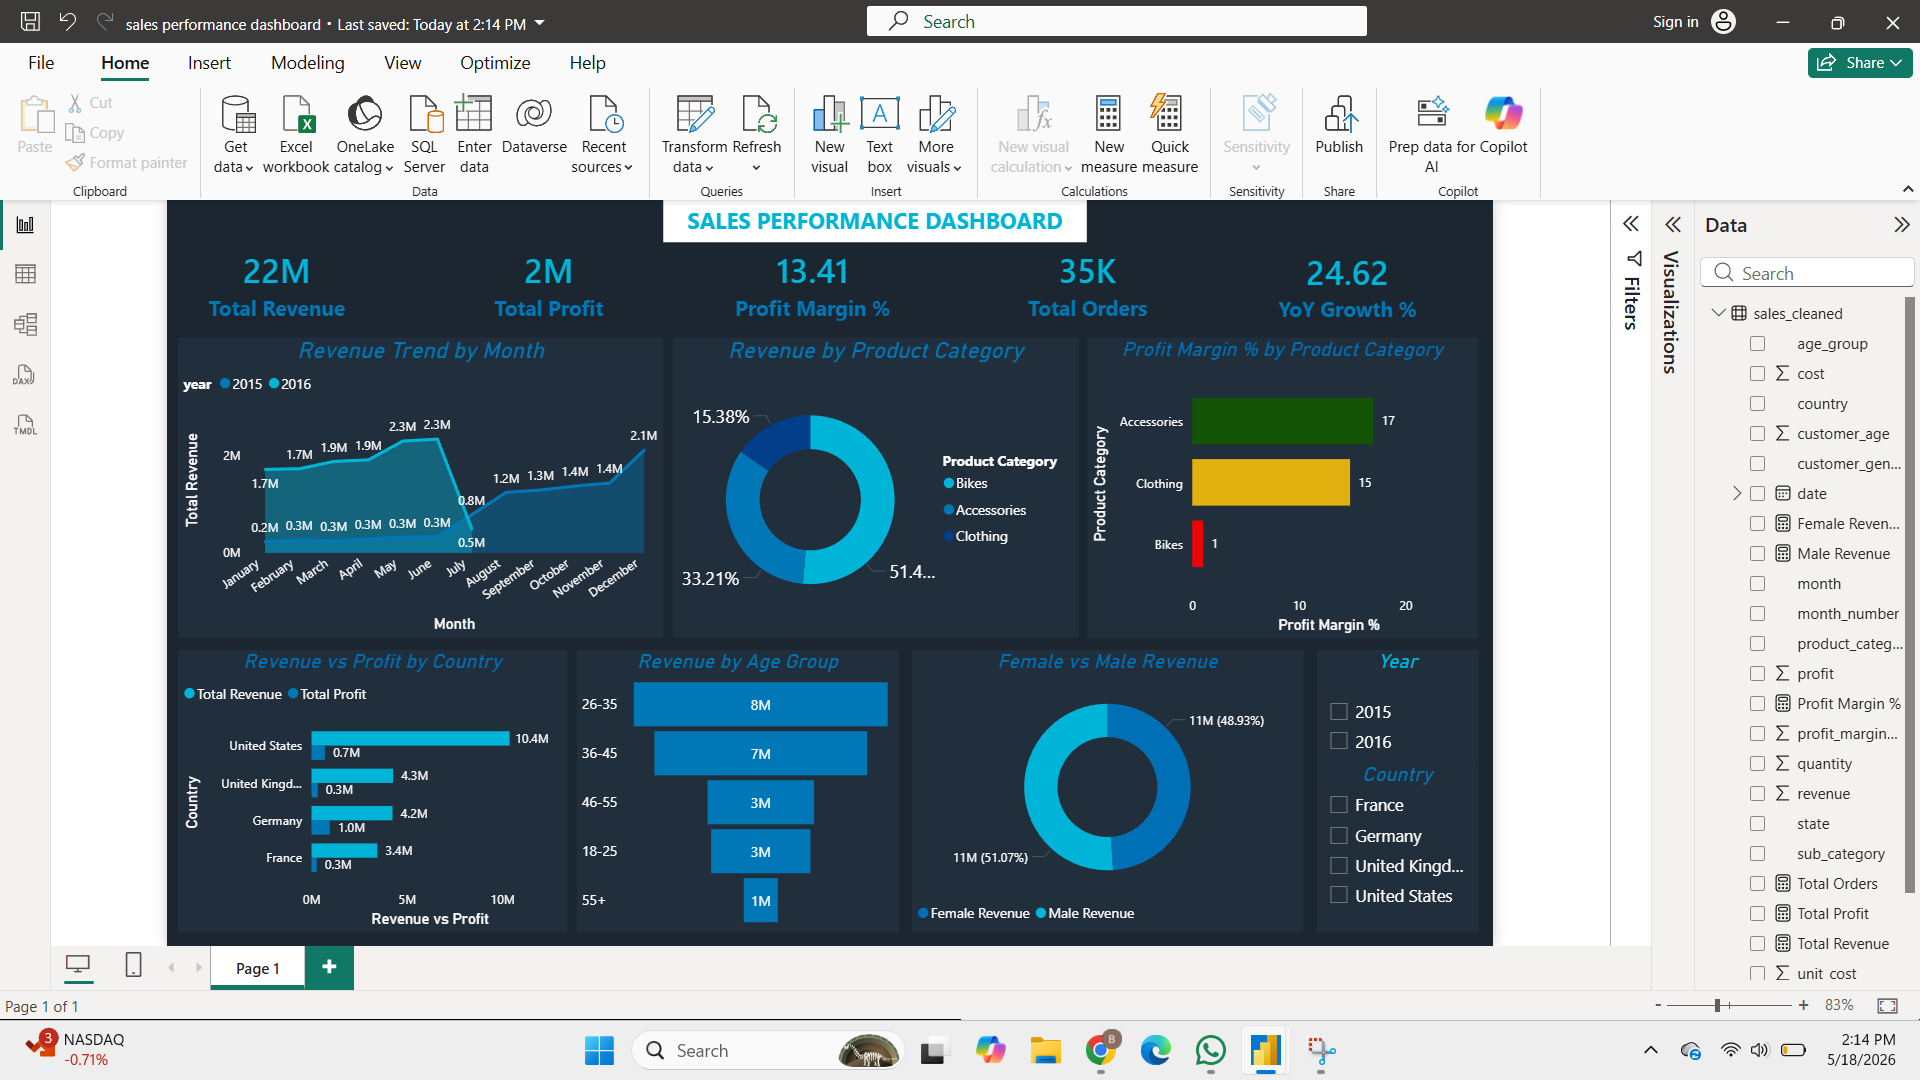

The dashboard page shown, as its layout file describes it:
{"tool":"powerbi","page":{"name":"Page 1","canvas":[1280,720],"ordinal":0},"visuals":[{"type":"cardVisual","fields":{"Data":["sales_cleaned.Total Revenue"]},"box":[0,30.2,212.3,102.5],"z":0},{"type":"cardVisual","fields":{"Data":["sales_cleaned.Total Profit"]},"box":[263,30.2,211.1,102.5],"z":1000},{"type":"cardVisual","fields":{"Data":["sales_cleaned.Profit Margin %"]},"box":[503.1,25.3,240.1,112.2],"z":2000},{"type":"cardVisual","fields":{"Data":["sales_cleaned.Total Orders"]},"box":[783,30.2,211.1,102.5],"z":3000},{"type":"areaChart","title":"Revenue Trend by Month","fields":{"Y":["sales_cleaned.Total Revenue"],"Series":["sales_cleaned.year"],"Category":["sales_cleaned.date.Variation.Date Hierarchy.Month"]},"box":[10.9,132.7,468.1,289.5],"z":4000},{"type":"donutChart","title":" Revenue by Product Category","fields":{"Category":["sales_cleaned.product_category"],"Y":["sales_cleaned.Total Revenue"]},"box":[488.6,132.7,390.9,289.5],"z":5000},{"type":"funnel","title":"Revenue by Age Group","fields":{"Category":["sales_cleaned.age_group"],"Y":["sales_cleaned.Total Revenue"]},"box":[395.7,434.3,310.1,272.7],"z":6000},{"type":"slicer","title":"Year","fields":{"Values":["sales_cleaned.year"]},"box":[1109.9,434.3,155.6,108.6],"z":7000},{"type":"slicer","title":"Country","fields":{"Values":["sales_cleaned.country"]},"box":[1109.9,542.9,155.6,164.1],"z":8000},{"type":"clusteredBarChart","title":"Profit Margin % by Product Category","fields":{"Category":["sales_cleaned.product_category"],"Y":["sales_cleaned.Profit Margin %"]},"box":[887.9,132.7,377.6,290.8],"z":9000},{"type":"clusteredBarChart","title":" Revenue vs Profit by Country","fields":{"Category":["sales_cleaned.country"],"Y":["sales_cleaned.Total Revenue","sales_cleaned.Total Profit"]},"box":[10.9,434.3,375.2,272.7],"z":10000},{"type":"donutChart","title":"Female vs Male Revenue","fields":{"Y":["sales_cleaned.Female Revenue","sales_cleaned.Male Revenue"]},"box":[719,434.3,377.6,272.7],"z":10001},{"type":"cardVisual","fields":{"Data":["sales_cleaned.YoY Growth %"]},"box":[1033.9,31.4,211.1,102.5],"z":10002},{"type":"textbox","box":[479,0,409,41],"z":10003}]}

Visuals, with their boxes on the page's 1280x720 design canvas (x1, y1, x2, y2). These are canvas units, not pixel positions in the 1920x1080 screenshot, which may show the page scaled, cropped or inside an application window:
cardVisual - sales_cleaned.Total Revenue: box=[0, 30, 212, 133]
cardVisual - sales_cleaned.Total Profit: box=[263, 30, 474, 133]
cardVisual - sales_cleaned.Profit Margin %: box=[503, 25, 743, 138]
cardVisual - sales_cleaned.Total Orders: box=[783, 30, 994, 133]
"Revenue Trend by Month" areaChart: box=[11, 133, 479, 422]
" Revenue by Product Category" donutChart: box=[489, 133, 880, 422]
"Revenue by Age Group" funnel: box=[396, 434, 706, 707]
"Year" slicer: box=[1110, 434, 1266, 543]
"Country" slicer: box=[1110, 543, 1266, 707]
"Profit Margin % by Product Category" clusteredBarChart: box=[888, 133, 1266, 424]
" Revenue vs Profit by Country" clusteredBarChart: box=[11, 434, 386, 707]
"Female vs Male Revenue" donutChart: box=[719, 434, 1097, 707]
cardVisual - sales_cleaned.YoY Growth %: box=[1034, 31, 1245, 134]
textbox: box=[479, 0, 888, 41]
